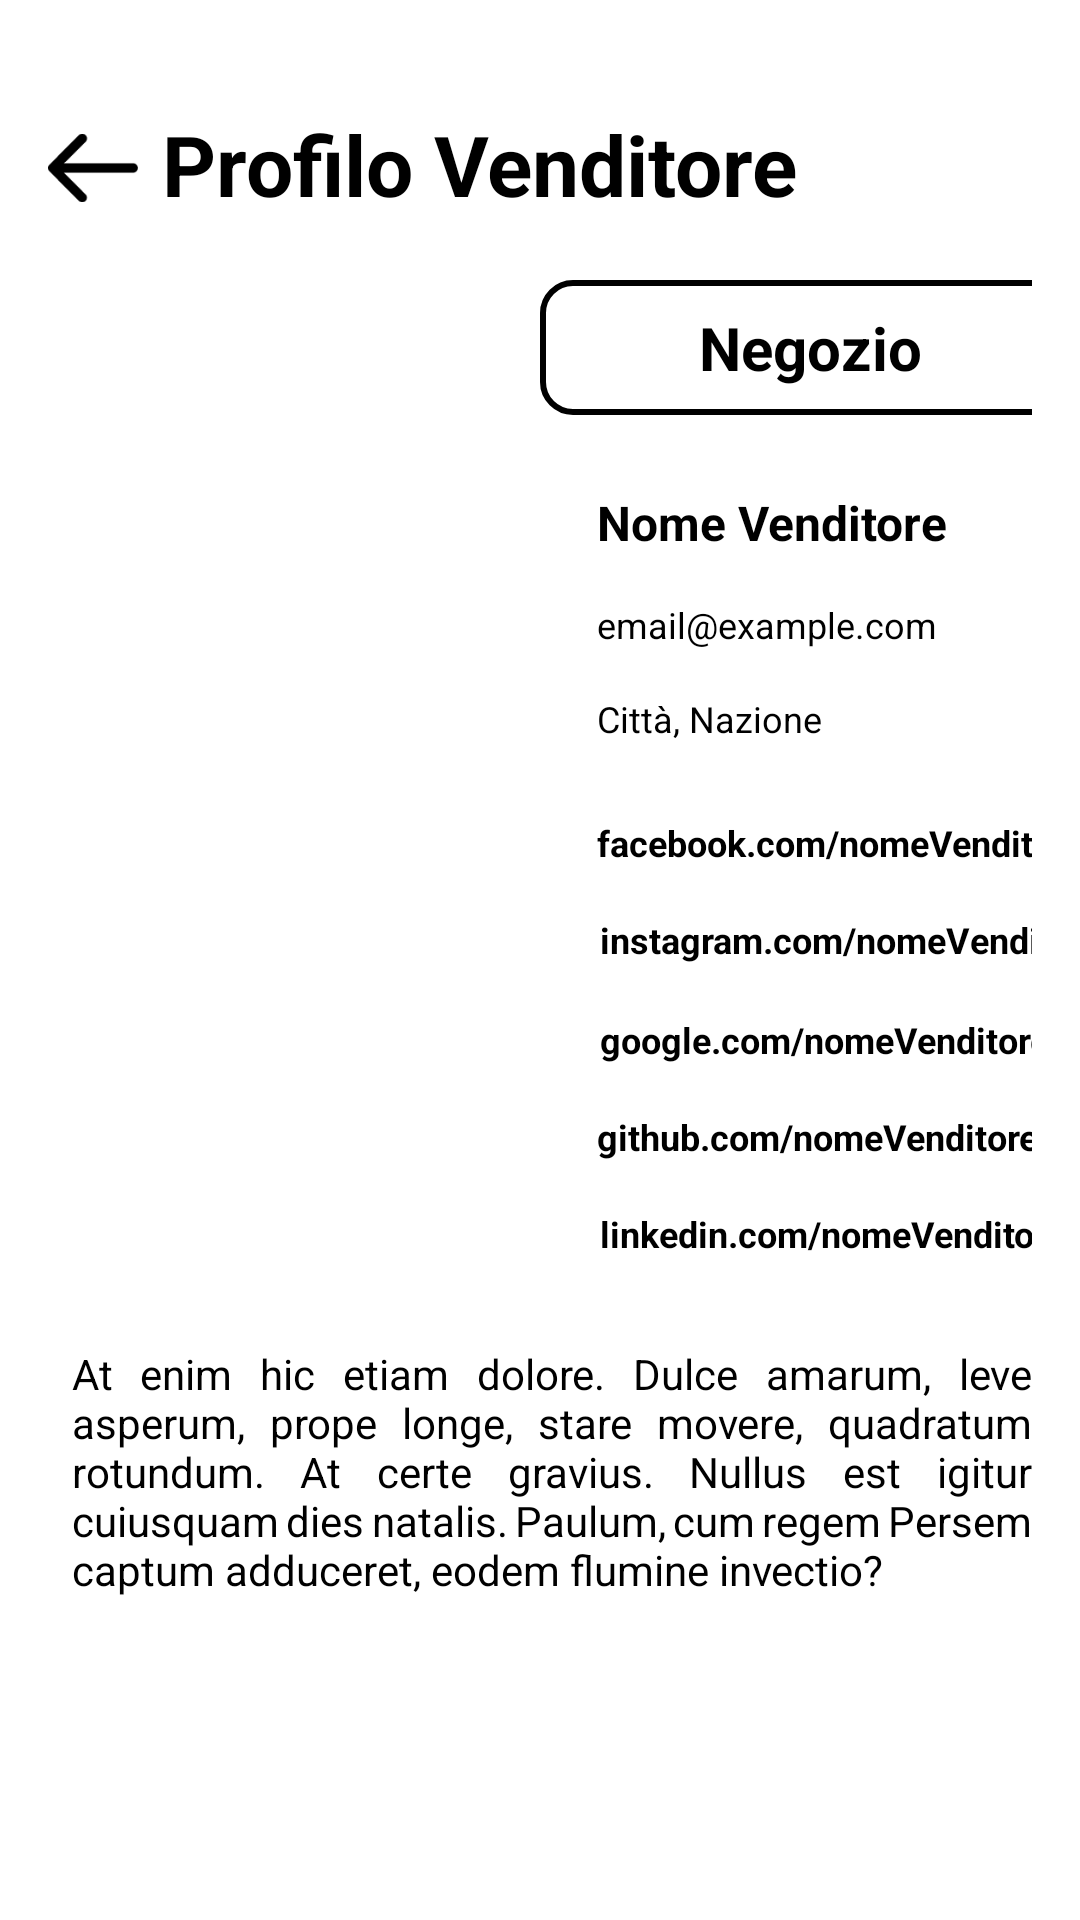

Icon click points for this 1080w x 1920h phone screenshot, format point (x, y):
freccia: point (93, 168)
